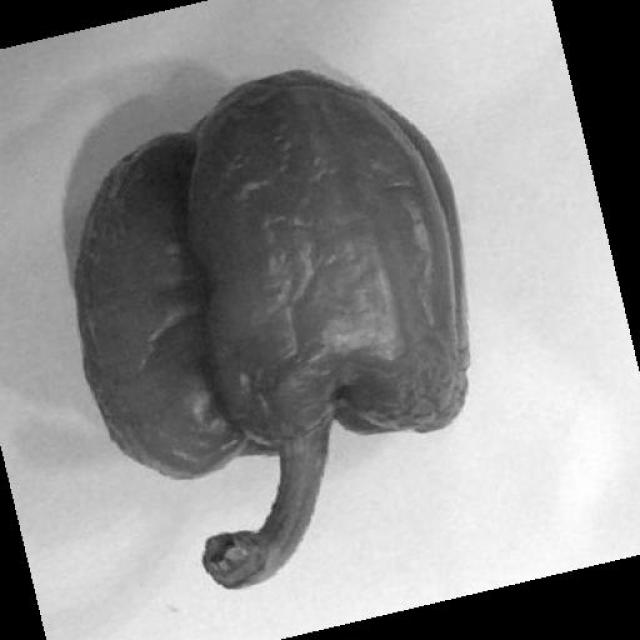Stale_Capsicum: (83, 54, 503, 510)
